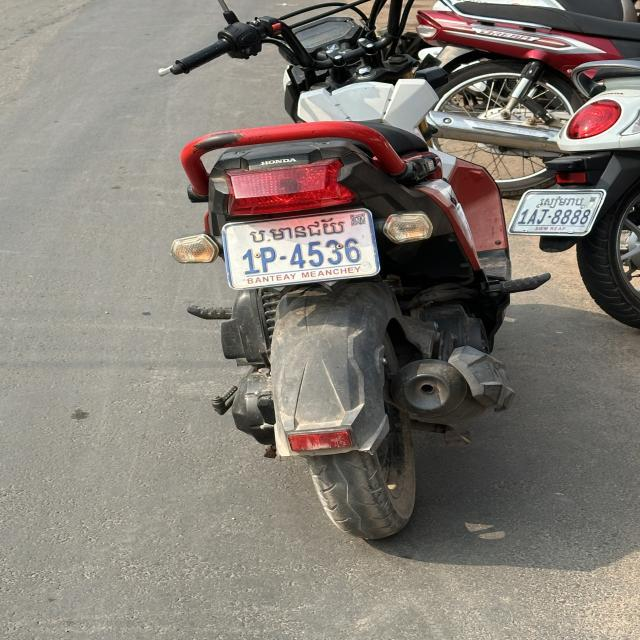Banteay_Meanchey: (248, 215, 344, 242)
Siem_Reap: (539, 195, 584, 208)
